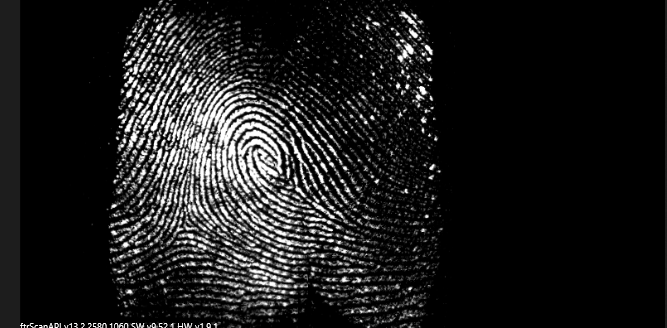deltas: (156, 195, 210, 243)
nucleo: (249, 132, 307, 189)
